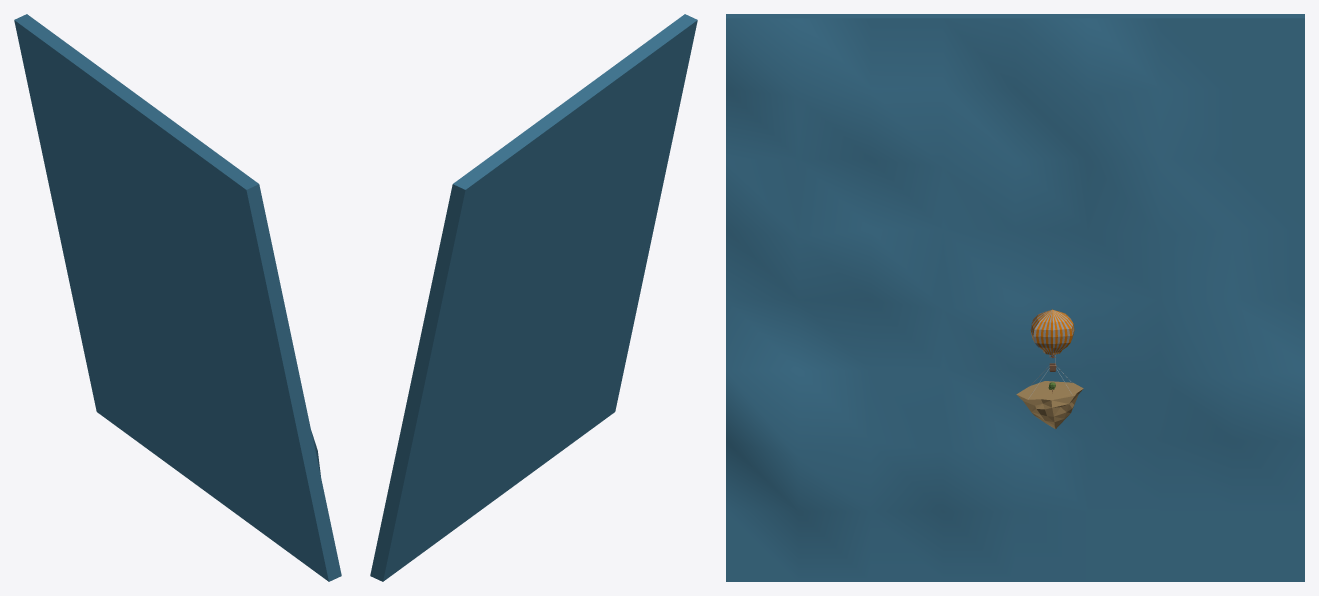
File: balloon.glb
3 views of the same model, side by side, from view 1: azimuth 30°, elevation 25°; view 2: azimuth 150°, elevation 25°; view 3: azimuth 270°, elevation 25° (orthographic). The views are drawn at different scales.
Parts seen in each view (by area): view 1: Plane; view 2: Plane; view 3: Plane, Cube, Cube.003.
Part boxes in pixels (bbox=[...]): Plane: bbox=[14, 14, 341, 581]; Plane: bbox=[370, 14, 697, 581]; Plane: bbox=[726, 14, 1304, 581]; Cube: bbox=[1016, 381, 1083, 429]; Cube.003: bbox=[1030, 309, 1074, 354].
Bounding box in the file's own units: 71.18 × 229 × 233.
